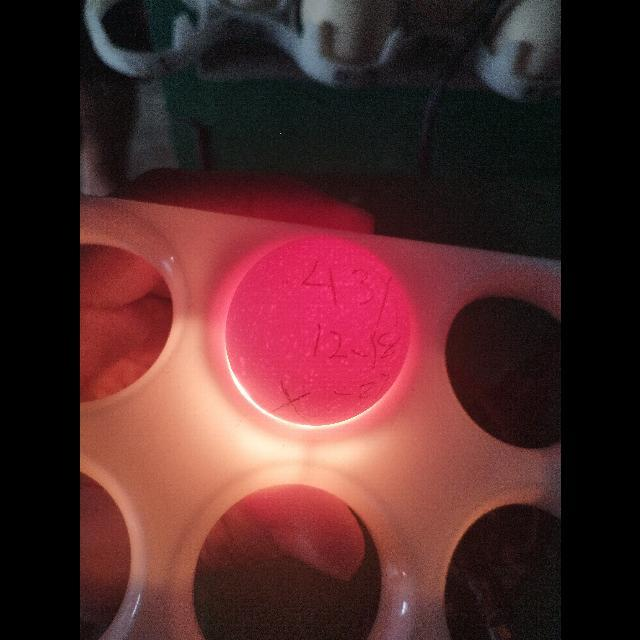Infertile: (222, 233, 416, 432)
